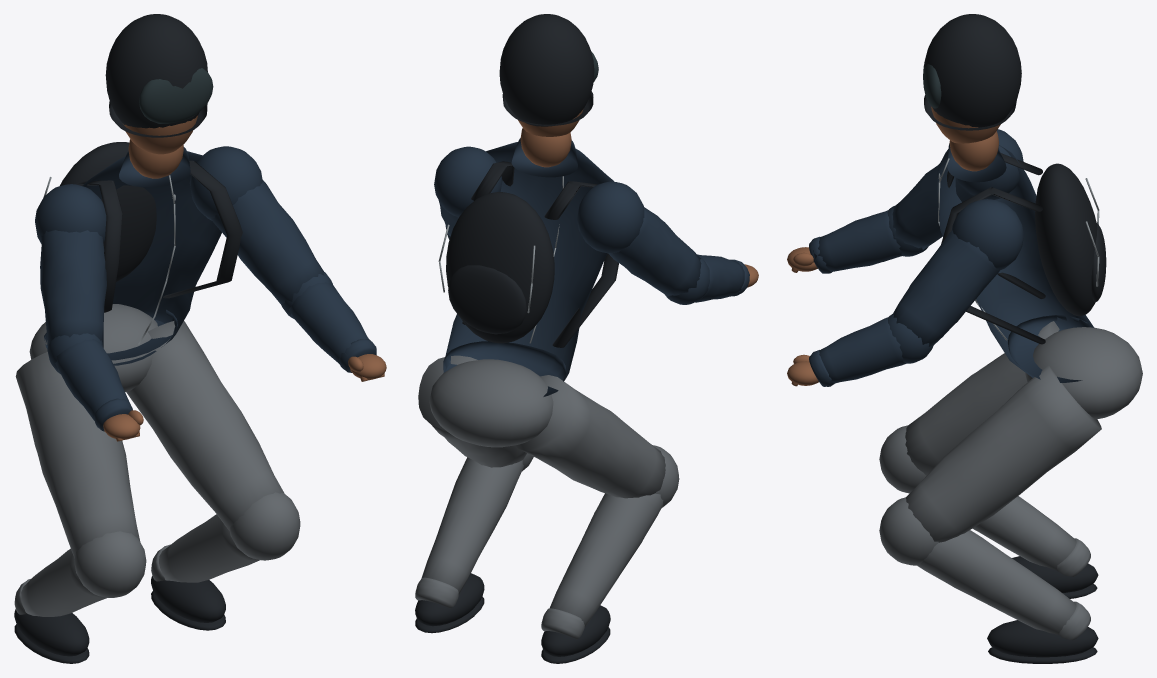
Rendered from rider.glb.
3 renders of one model, left to right at view 1: azimuth 30°, elevation 25°; view 2: azimuth 150°, elevation 25°; view 3: azimuth 270°, elevation 25°, orthographic. The views are drawn at different scales.
Visible parts, largest first — view 1: rider_grey_denim, rider_marine_woven_jacket, rider_black_matte_gear, rider_brown_skin, rider_dark_visor; view 2: rider_grey_denim, rider_black_matte_gear, rider_marine_woven_jacket, rider_brown_skin; view 3: rider_grey_denim, rider_marine_woven_jacket, rider_black_matte_gear, rider_brown_skin, rider_dark_visor.
Part boxes in pixels (x1,y1,x2,y2): rider_grey_denim: (14, 304, 300, 616); rider_marine_woven_jacket: (35, 146, 376, 431); rider_black_matte_gear: (14, 14, 242, 663); rider_brown_skin: (103, 115, 386, 441); rider_dark_visor: (139, 68, 213, 123); rider_grey_denim: (415, 355, 679, 639); rider_black_matte_gear: (415, 14, 618, 663); rider_marine_woven_jacket: (434, 138, 749, 396); rider_brown_skin: (518, 109, 758, 287); rider_grey_denim: (879, 321, 1142, 640); rider_marine_woven_jacket: (809, 129, 1094, 386); rider_black_matte_gear: (924, 14, 1106, 663); rider_brown_skin: (787, 106, 1000, 386); rider_dark_visor: (923, 64, 941, 108).
Size of the model in its own units: 0.7046 by 1.54 by 0.817.
